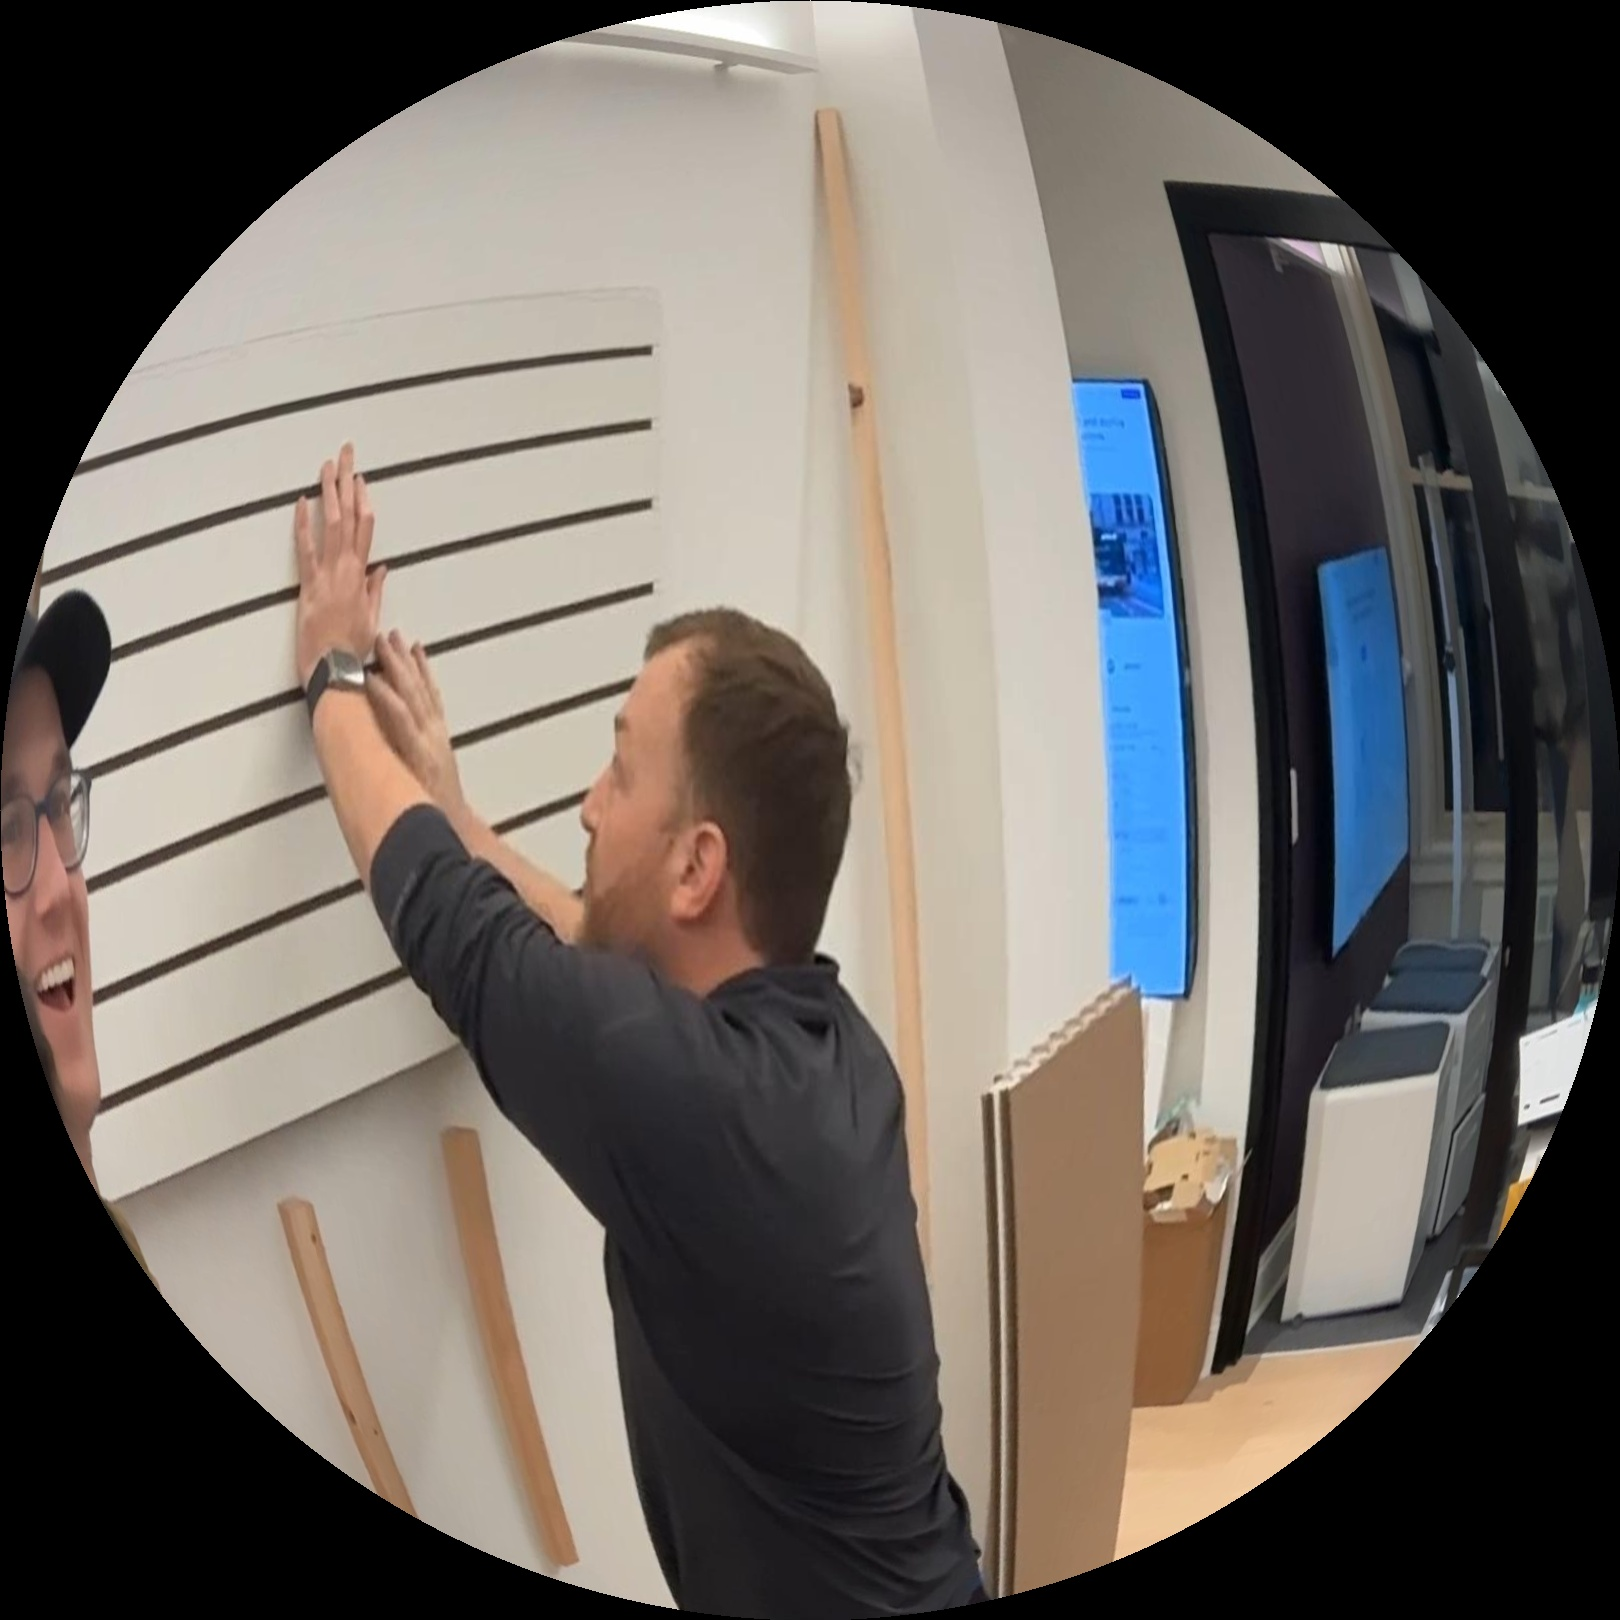face: (553, 622, 761, 977), (0, 680, 110, 1134)
